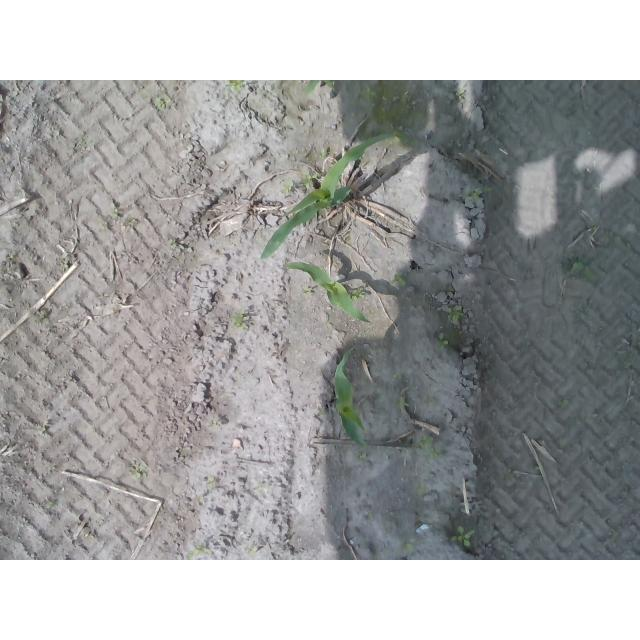Maize: (261, 129, 399, 261), (285, 261, 372, 324), (333, 346, 376, 446)
Weeds: (450, 526, 478, 549), (414, 434, 440, 457), (391, 89, 417, 104), (571, 262, 593, 279), (187, 545, 210, 560), (131, 464, 149, 481), (446, 304, 462, 322), (304, 172, 321, 187), (435, 333, 450, 349), (233, 314, 247, 329), (393, 397, 407, 412), (350, 288, 366, 301), (393, 272, 408, 285), (109, 202, 120, 219), (316, 147, 329, 161), (403, 539, 416, 553), (417, 484, 431, 496), (364, 87, 379, 98), (282, 180, 294, 193), (227, 80, 242, 90), (468, 189, 481, 200), (167, 239, 179, 249), (156, 98, 165, 111)
